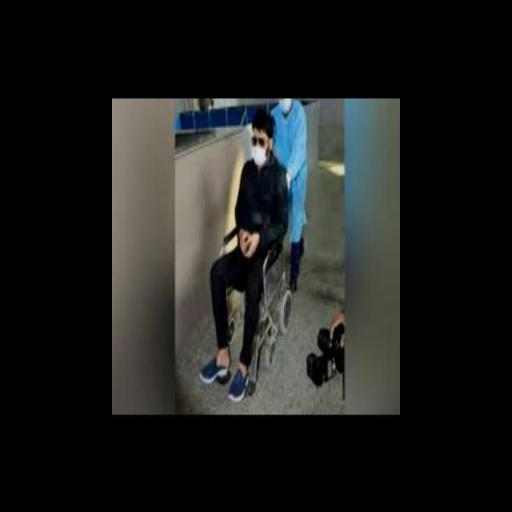cadeira_de_rodas: (212, 178, 294, 393)
